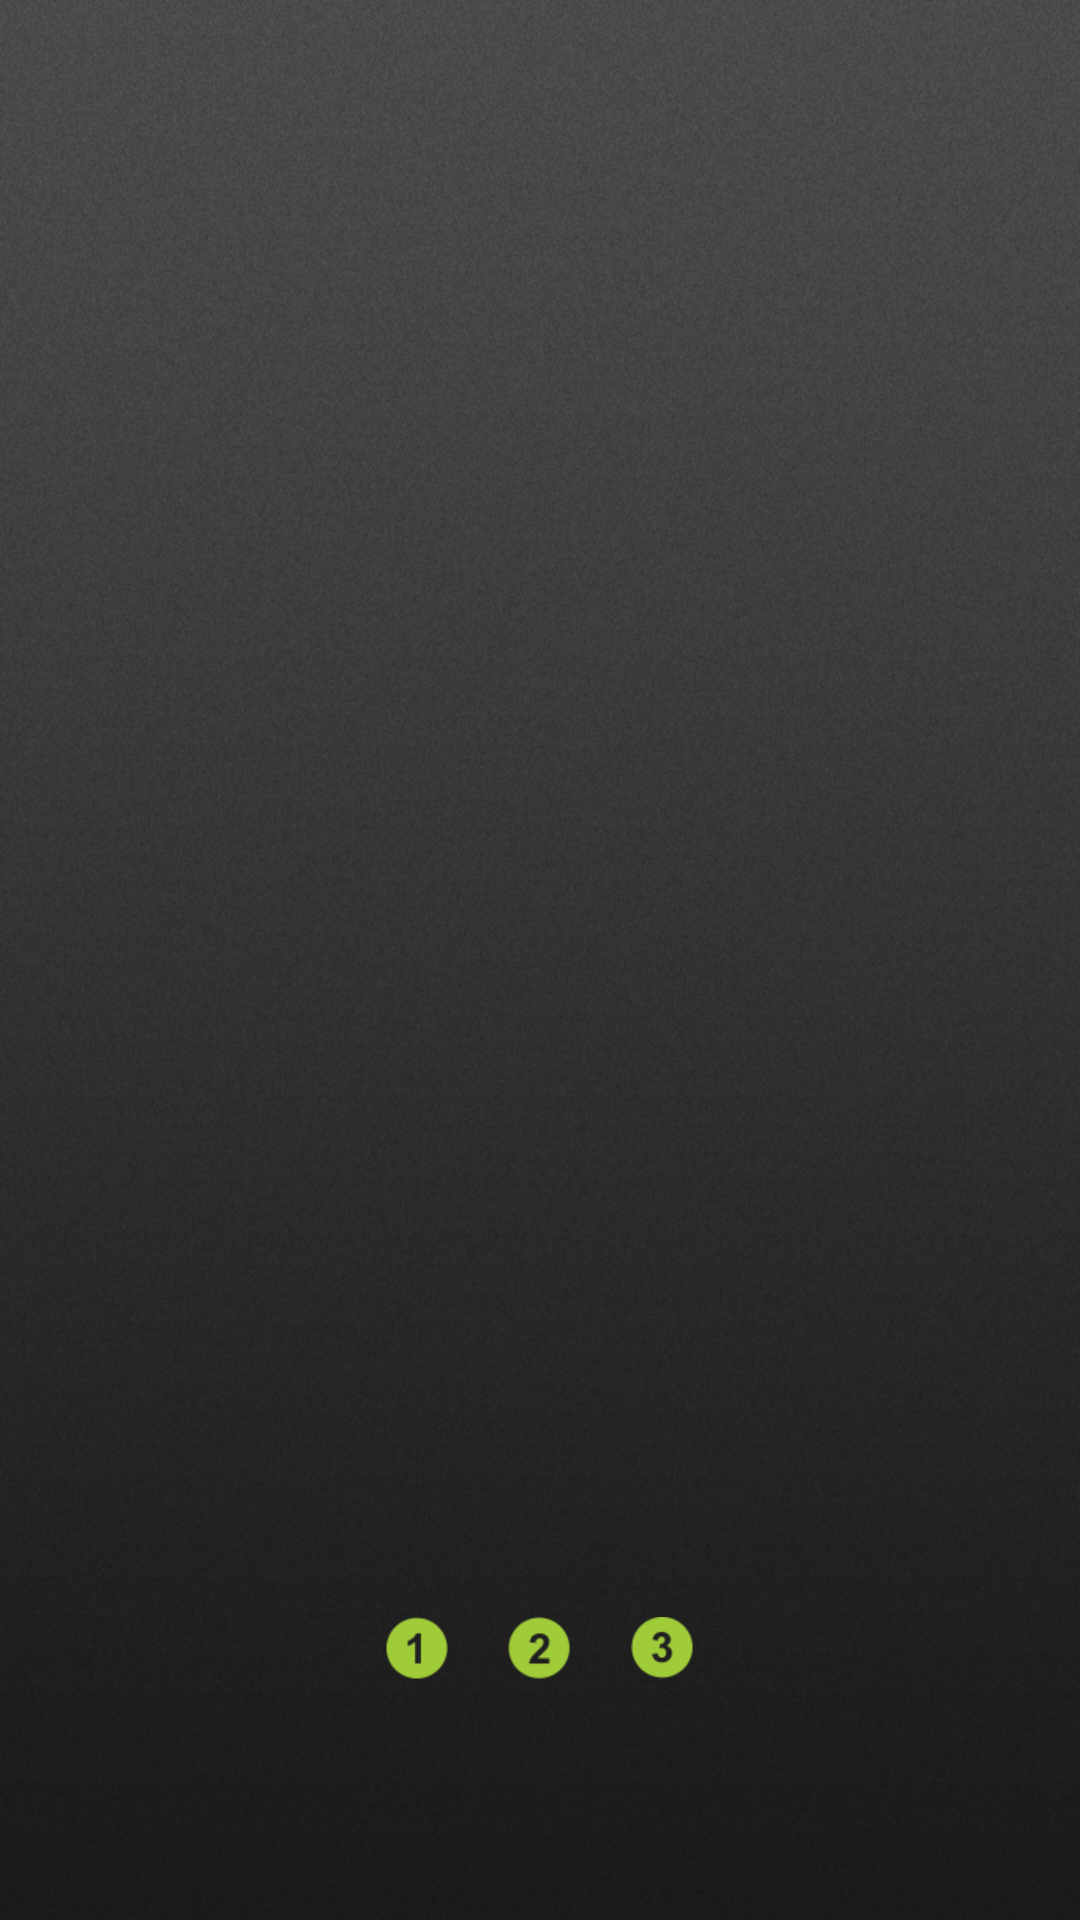

Screen size 1080*1920. Icon name, then its box in pixels as [x1=x1, y1=y1, x2=x2, y2=y2]:
page sel: [x1=386, y1=1617, x2=448, y2=1679], [x1=508, y1=1617, x2=570, y2=1679], [x1=631, y1=1617, x2=693, y2=1679]
